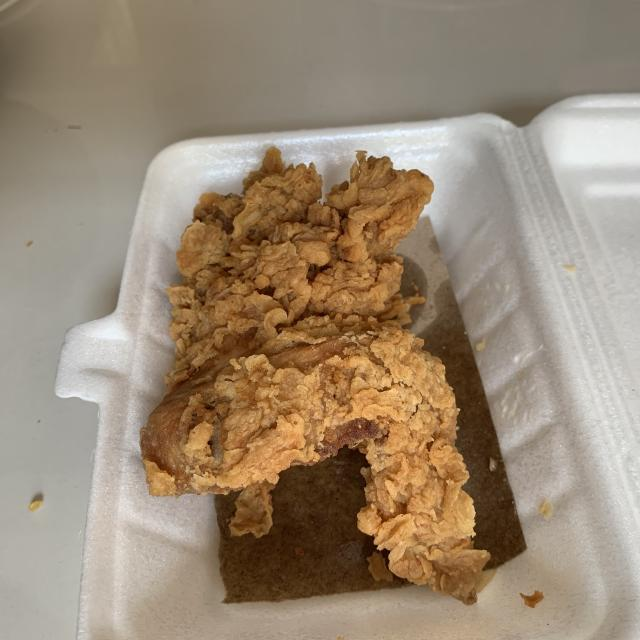Wet Waste: (138, 143, 483, 600)
